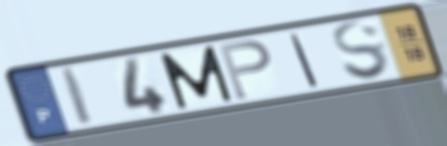4: (122, 54, 171, 117)
I: (57, 64, 98, 128), (287, 31, 322, 89)
M: (156, 43, 237, 112)
P: (215, 37, 274, 103)
S: (329, 18, 394, 82)
